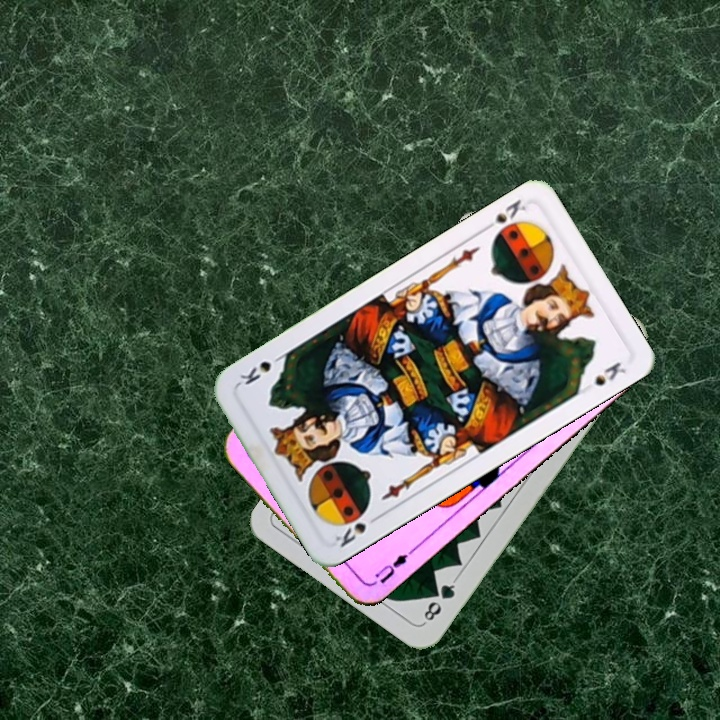EU: (370, 546, 416, 587)
G8: (419, 574, 459, 626)
SK: (478, 194, 529, 242), (331, 510, 384, 550)
